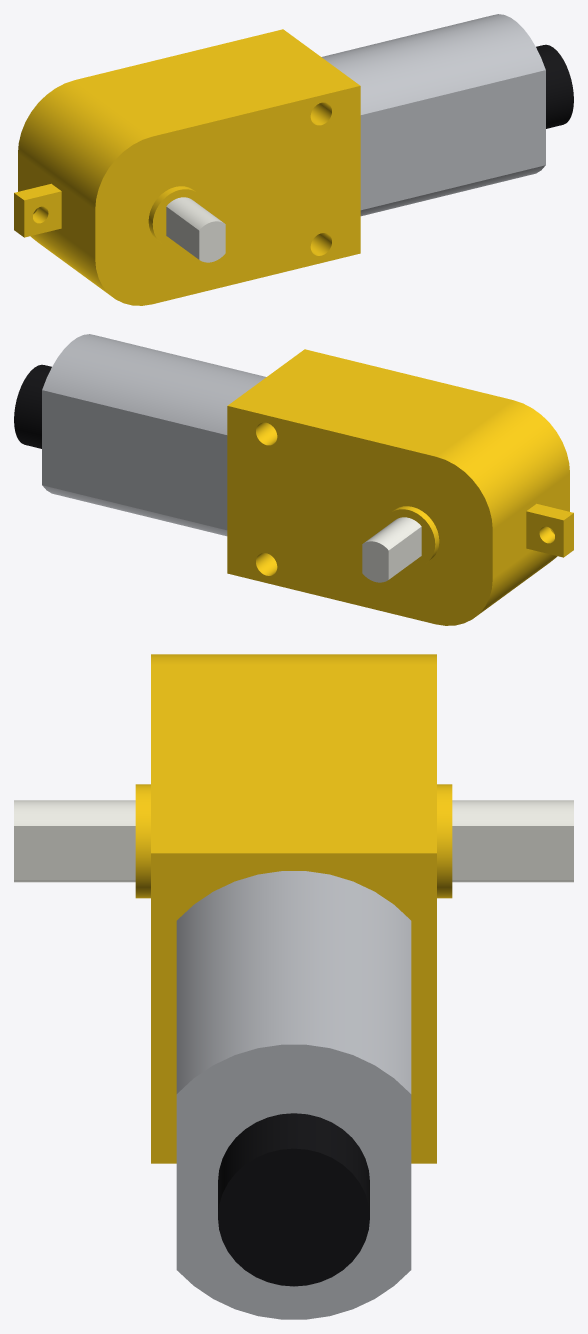
The model's file is motor_tt.glb.
3 renders of one model, top to bottom at view 1: azimuth 30°, elevation 25°; view 2: azimuth 150°, elevation 25°; view 3: azimuth 270°, elevation 25°, orthographic. The views are drawn at different scales.
Visible parts, largest first — view 1: redutor, motor, nc_eixo, tampa; view 2: redutor, motor, nc_eixo, tampa; view 3: redutor, motor, tampa, nc_eixo.
Boxes of the visible parts, x1,y1,x2,y2 form: redutor: (14,29,360,305); motor: (321,14,545,216); nc_eixo: (166,197,225,262); tampa: (536,44,573,128); redutor: (227,349,573,625); motor: (42,334,266,536); nc_eixo: (362,517,421,582); tampa: (14,364,51,448); redutor: (135,654,452,1163); motor: (176,871,411,1319); tampa: (218,1113,369,1286); nc_eixo: (14,800,573,882).
Size of the model in its own units: 75 by 22.5 by 36.8.
